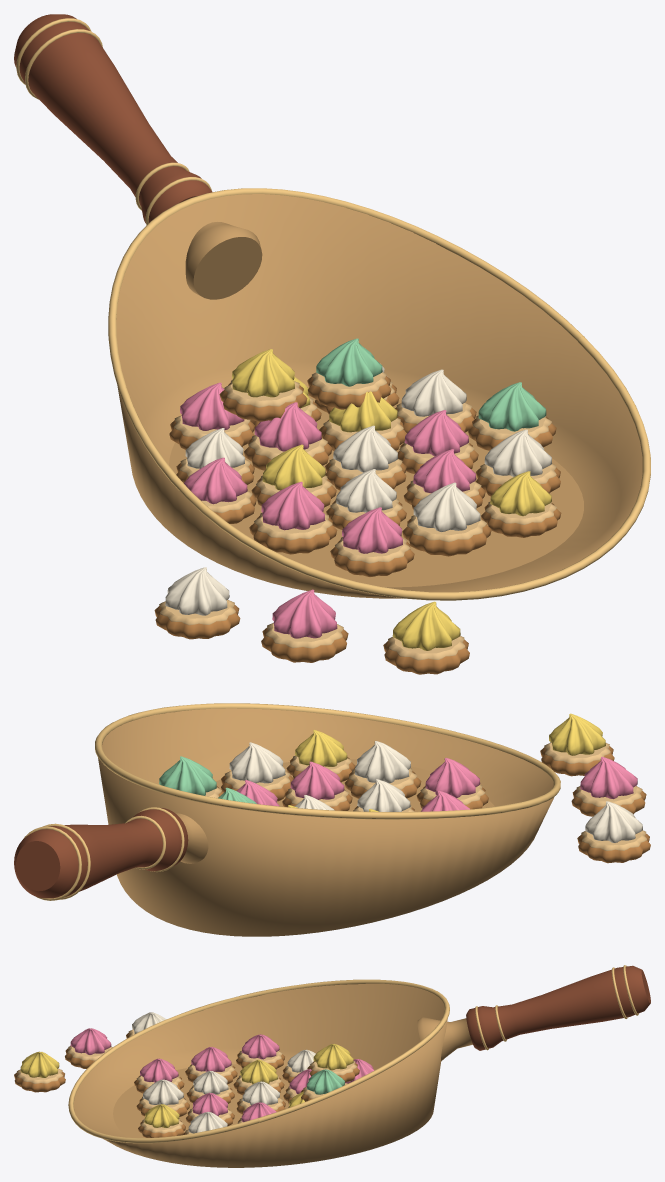
The picture shows the model from 3 angles, top to bottom: view 1: azimuth 30°, elevation 25°; view 2: azimuth 150°, elevation 25°; view 3: azimuth 270°, elevation 25°; orthographic projection. The views are drawn at different scales.
Visible parts, largest first — view 1: Scoop, Iced rosettes, Biscuits, Handle; view 2: Scoop, Iced rosettes, Handle, Biscuits; view 3: Scoop, Iced rosettes, Handle, Biscuits.
Part boxes in pixels (bbox=[...]): Scoop: bbox=[108, 188, 650, 600]; Iced rosettes: bbox=[165, 338, 552, 650]; Biscuits: bbox=[154, 372, 561, 674]; Handle: bbox=[14, 14, 262, 299]; Scoop: bbox=[95, 703, 560, 936]; Iced rosettes: bbox=[159, 713, 642, 842]; Handle: bbox=[14, 807, 208, 900]; Biscuits: bbox=[205, 742, 650, 863]; Scoop: bbox=[68, 979, 449, 1167]; Iced rosettes: bbox=[20, 1012, 374, 1133]; Handle: bbox=[417, 965, 650, 1060]; Biscuits: bbox=[14, 1029, 359, 1137].
Size of the model in its own units: 0.1824 by 0.0855 by 0.3253.
